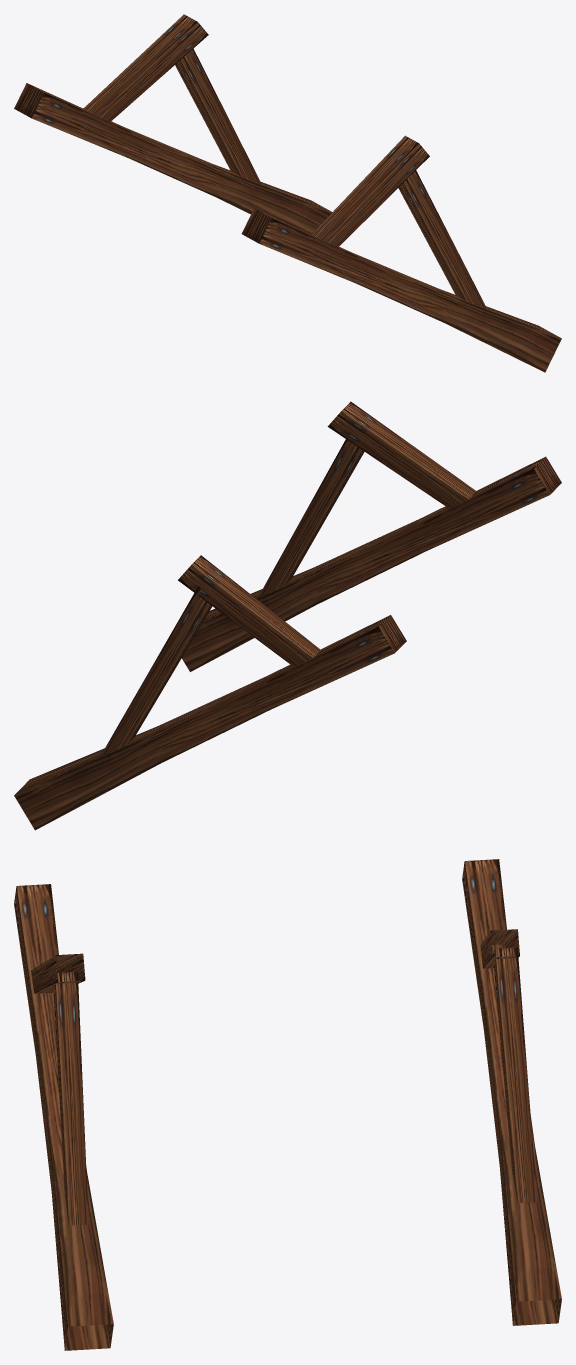
File: OVERHILL_A_01_POST41.fbx
3 renders of one model, top to bottom at view 1: azimuth 30°, elevation 25°; view 2: azimuth 150°, elevation 25°; view 3: azimuth 270°, elevation 25°, orthographic. The views are drawn at different scales.
Parts seen in each view (by area): view 1: OVERHILL_A_01_POST41; view 2: OVERHILL_A_01_POST41; view 3: OVERHILL_A_01_POST41.
Part boxes in pixels (bbox=[...]): OVERHILL_A_01_POST41: bbox=[14, 14, 561, 372]; OVERHILL_A_01_POST41: bbox=[14, 401, 561, 830]; OVERHILL_A_01_POST41: bbox=[14, 859, 561, 1350].
Bounding box in the file's own units: 24968 × 16974 × 26420.
Materials: 1 (1 with a texture image).
